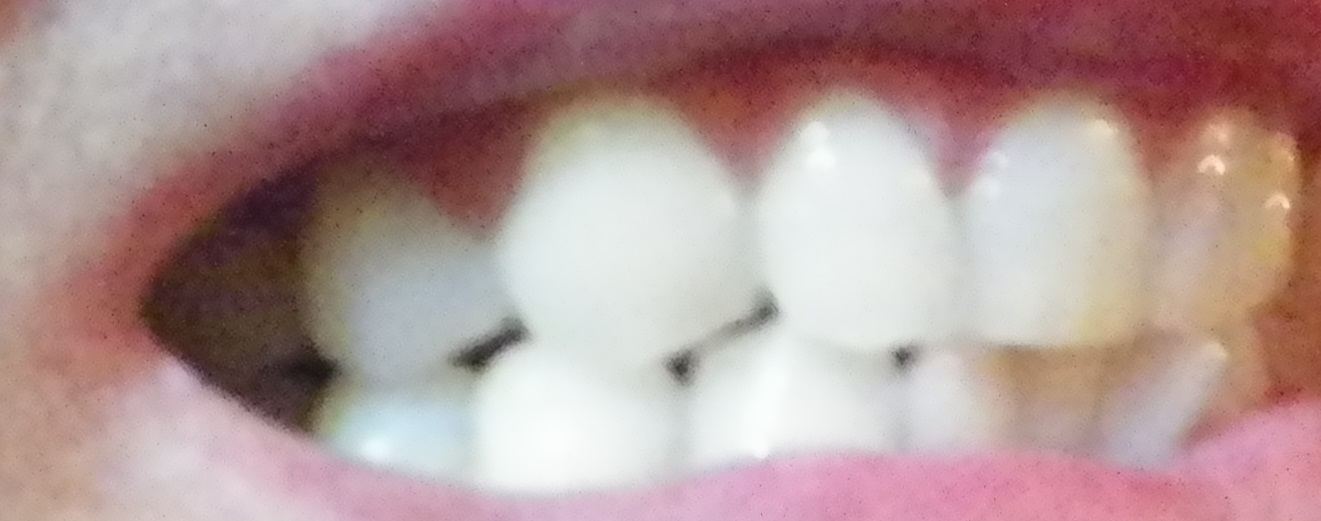boca: (148, 91, 1307, 477)
